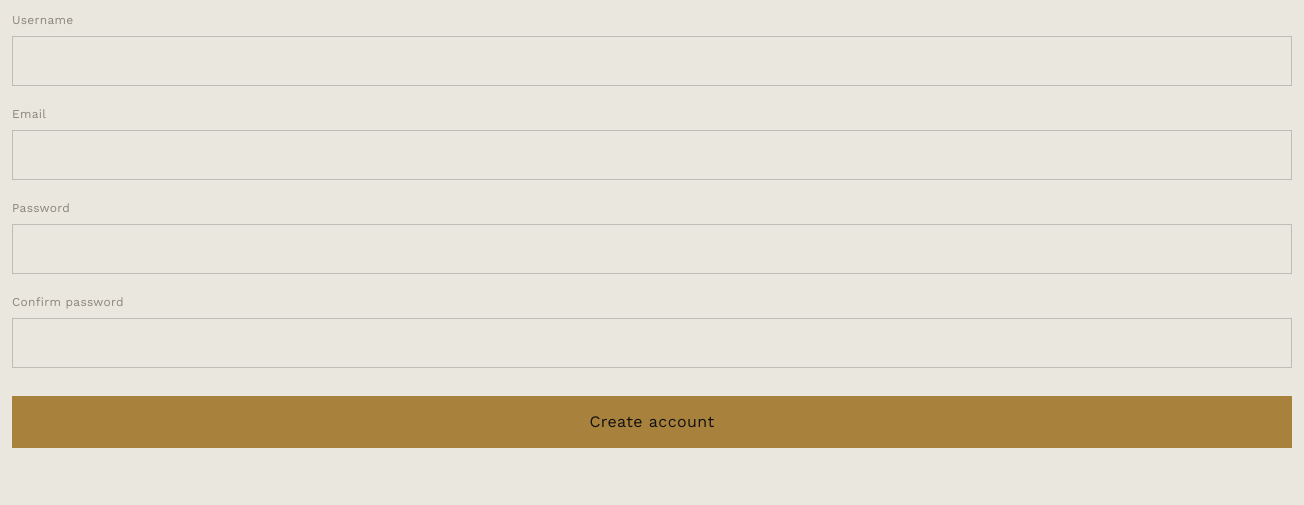
Scenario: RegisterForm › surfaces the backend's field error instead of a generic message
In the field labelled "Email": point(652, 155) [12,130,1292,180], type "jane@example.com"
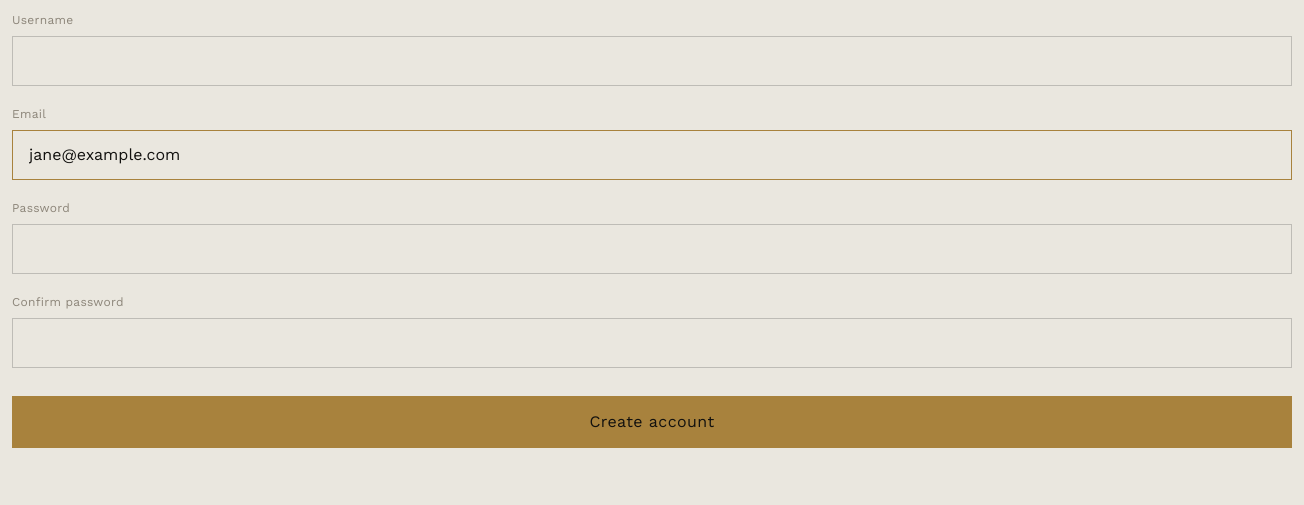
In the password field labelled "Password": point(652, 249) [12,224,1292,274], type "hunter2!!"
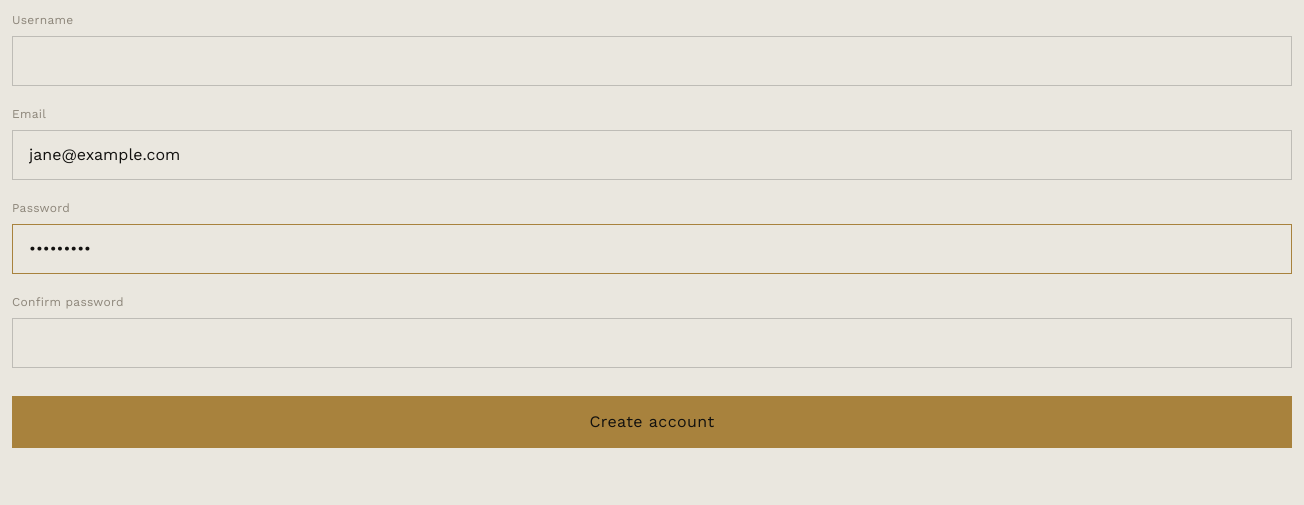
In the password field labelled "Confirm password": point(652, 343) [12,318,1292,368], type "hunter2!!"
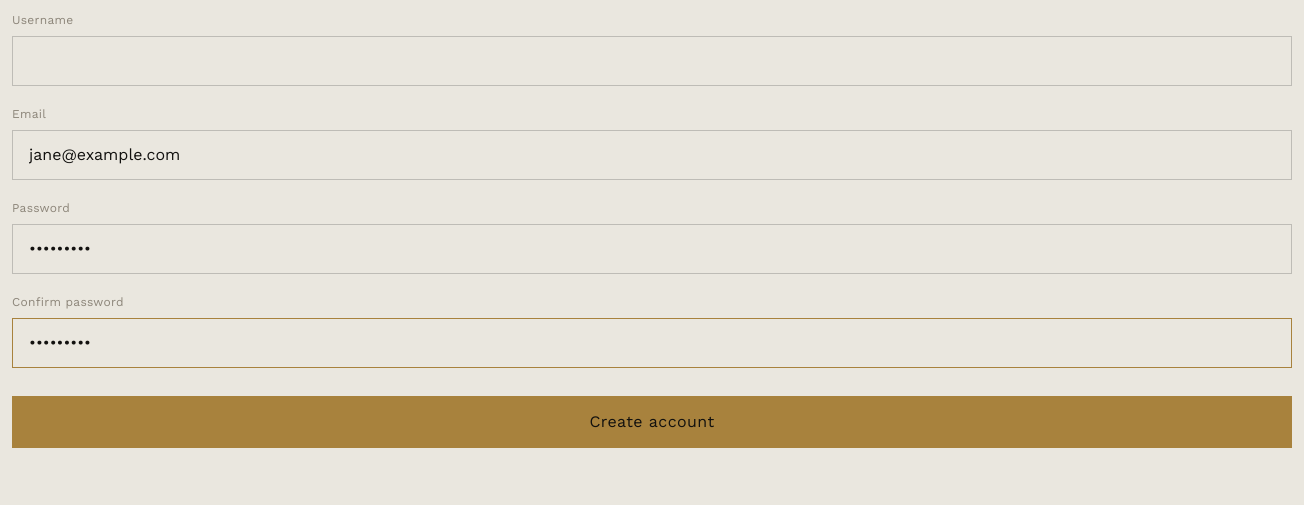
Click the button "Create account": point(652, 422) [12,396,1292,448]
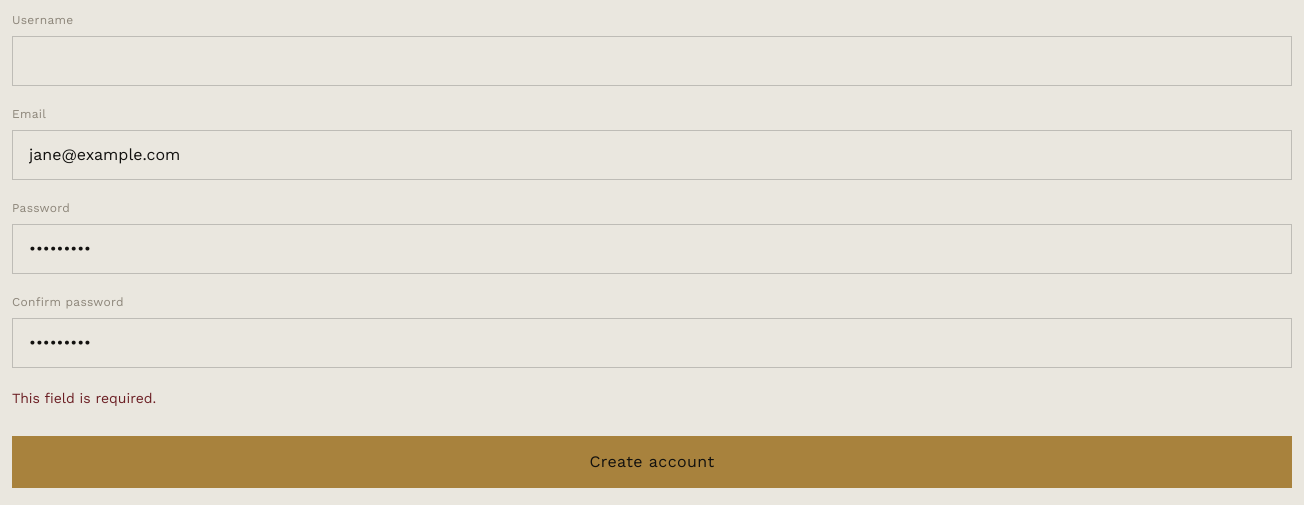
Expected: the text "This field is required." is shown, [12,390,156,406]
